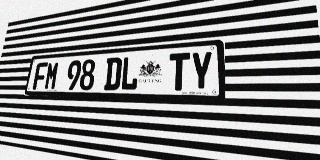8: (79, 59, 96, 90)
9: (65, 60, 82, 90)
D: (103, 57, 122, 90)
F: (32, 62, 48, 90)
L: (120, 56, 139, 90)
M: (44, 61, 60, 90)
T: (168, 52, 190, 91)
Y: (190, 51, 213, 91)
